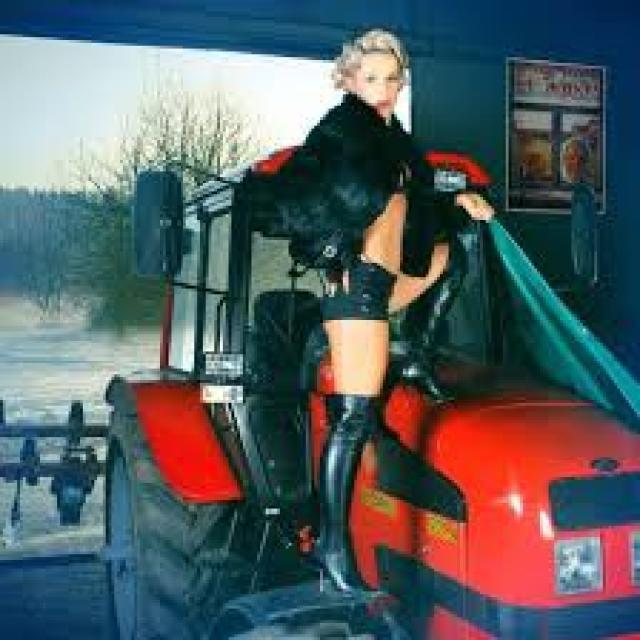Tratores - v5 YOLO V8L 2024-11-13: (103, 148, 640, 638)
